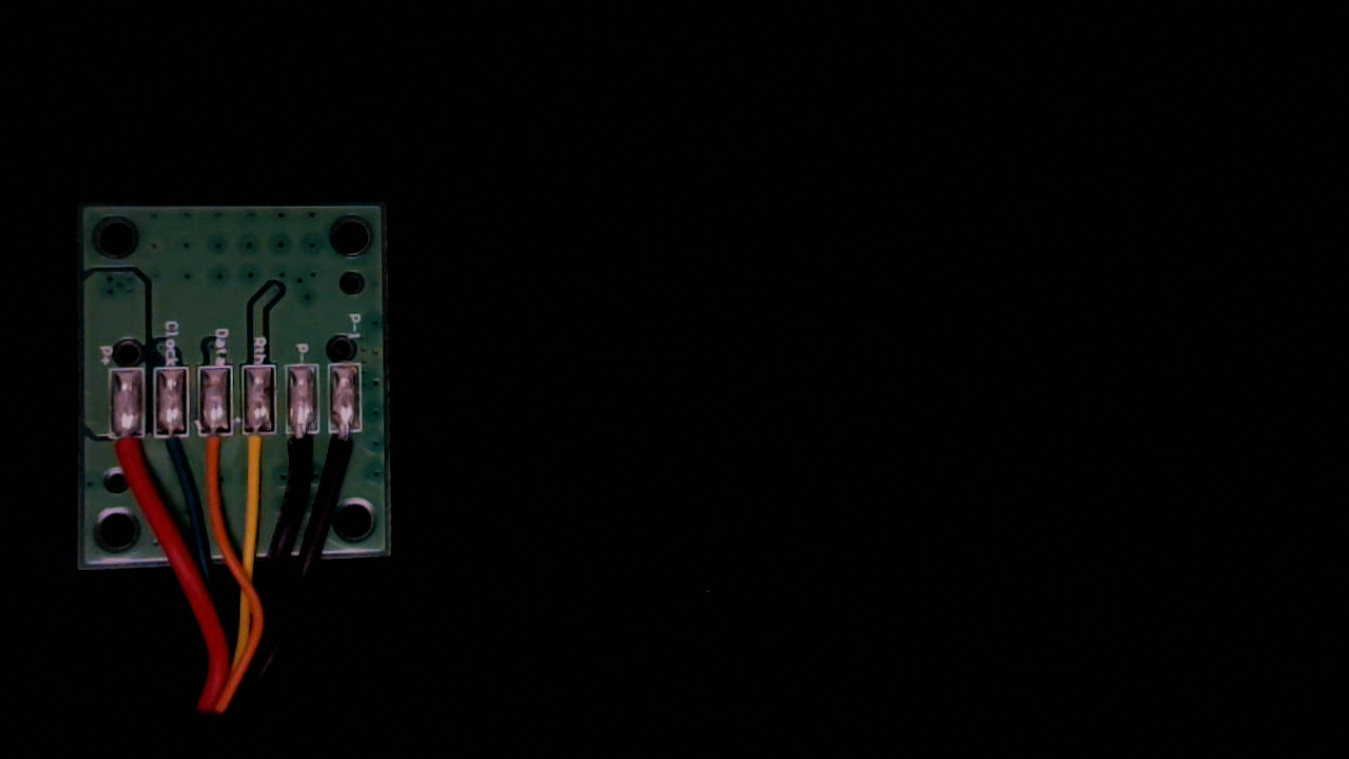Black: (308, 420, 349, 494)
Black1: (361, 420, 406, 493)
Green: (155, 424, 204, 495)
Orange: (207, 424, 252, 502)
Red: (103, 424, 150, 500)
Yellow: (254, 419, 302, 499)
